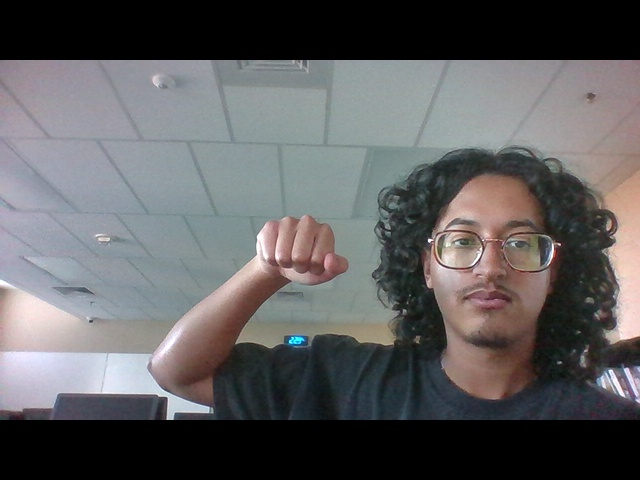yes: (237, 198, 365, 298)
